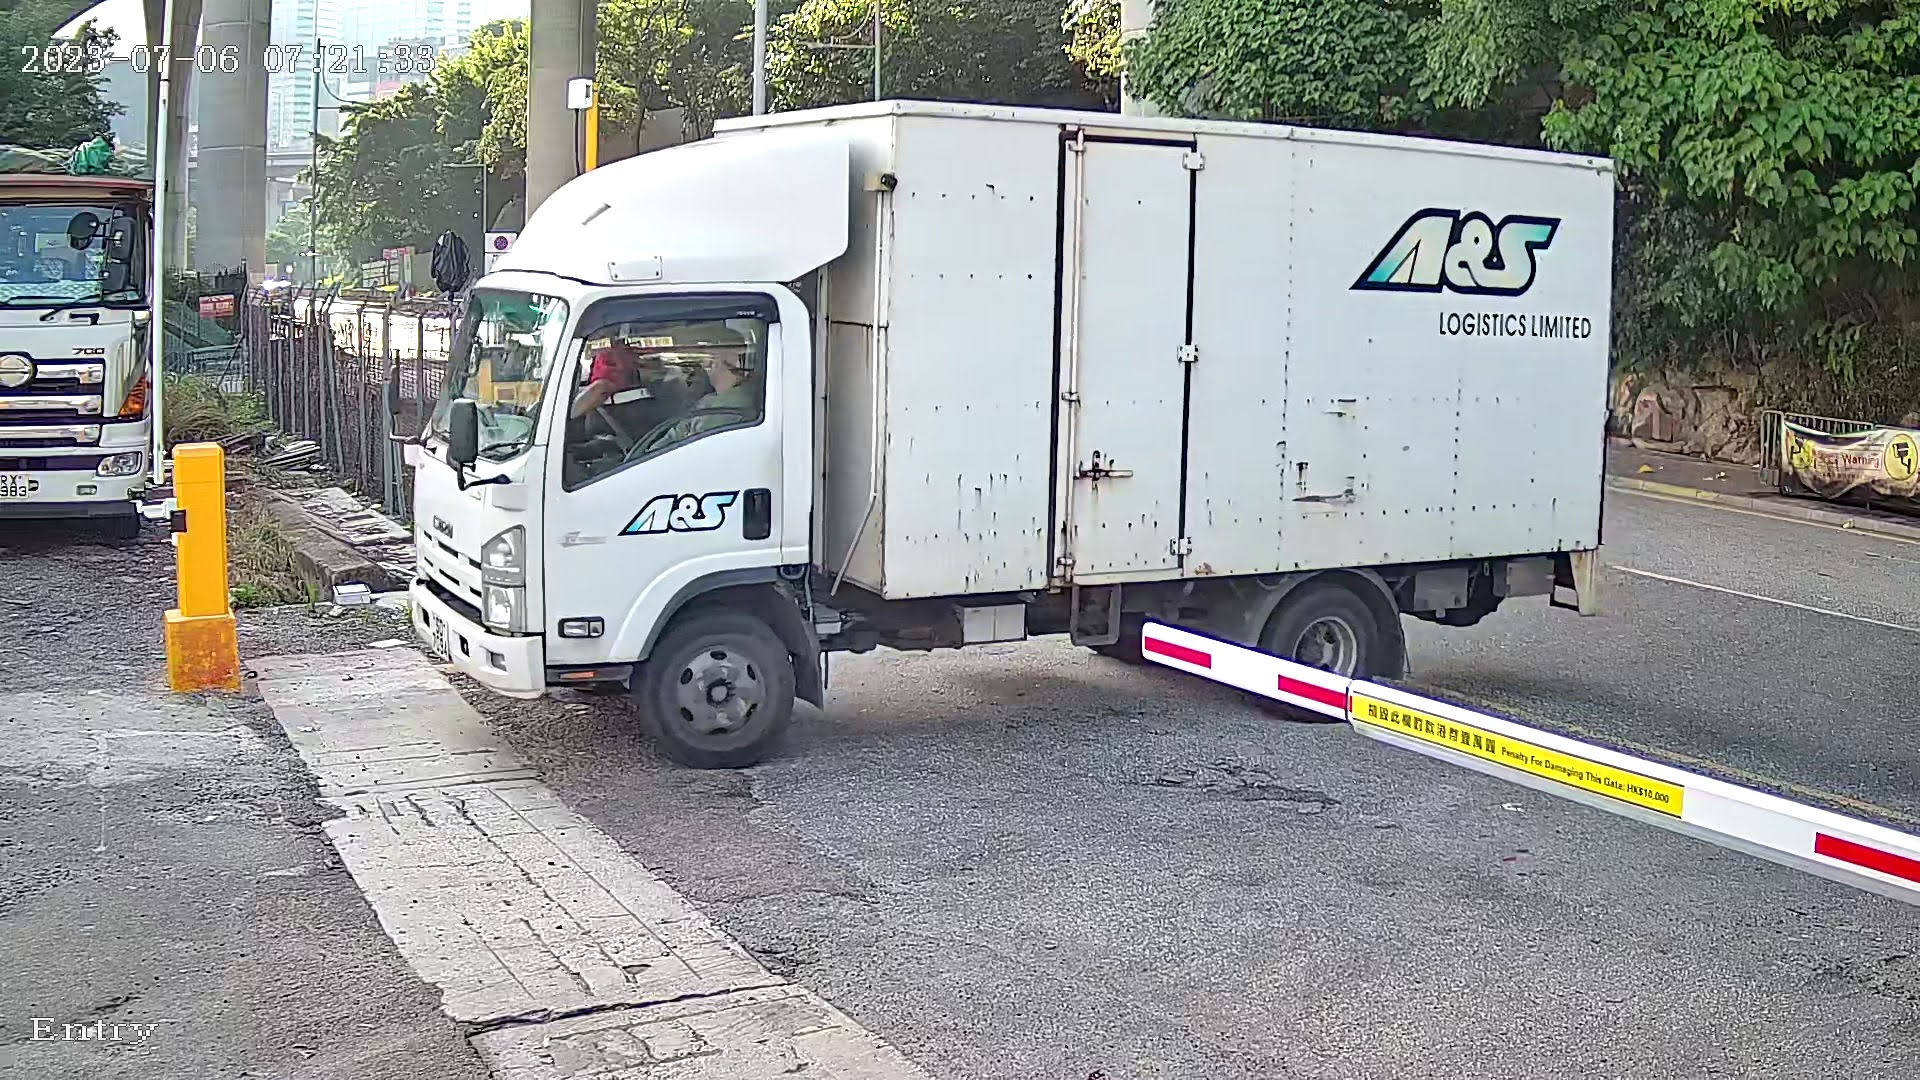truck: (310, 76, 1656, 798)
